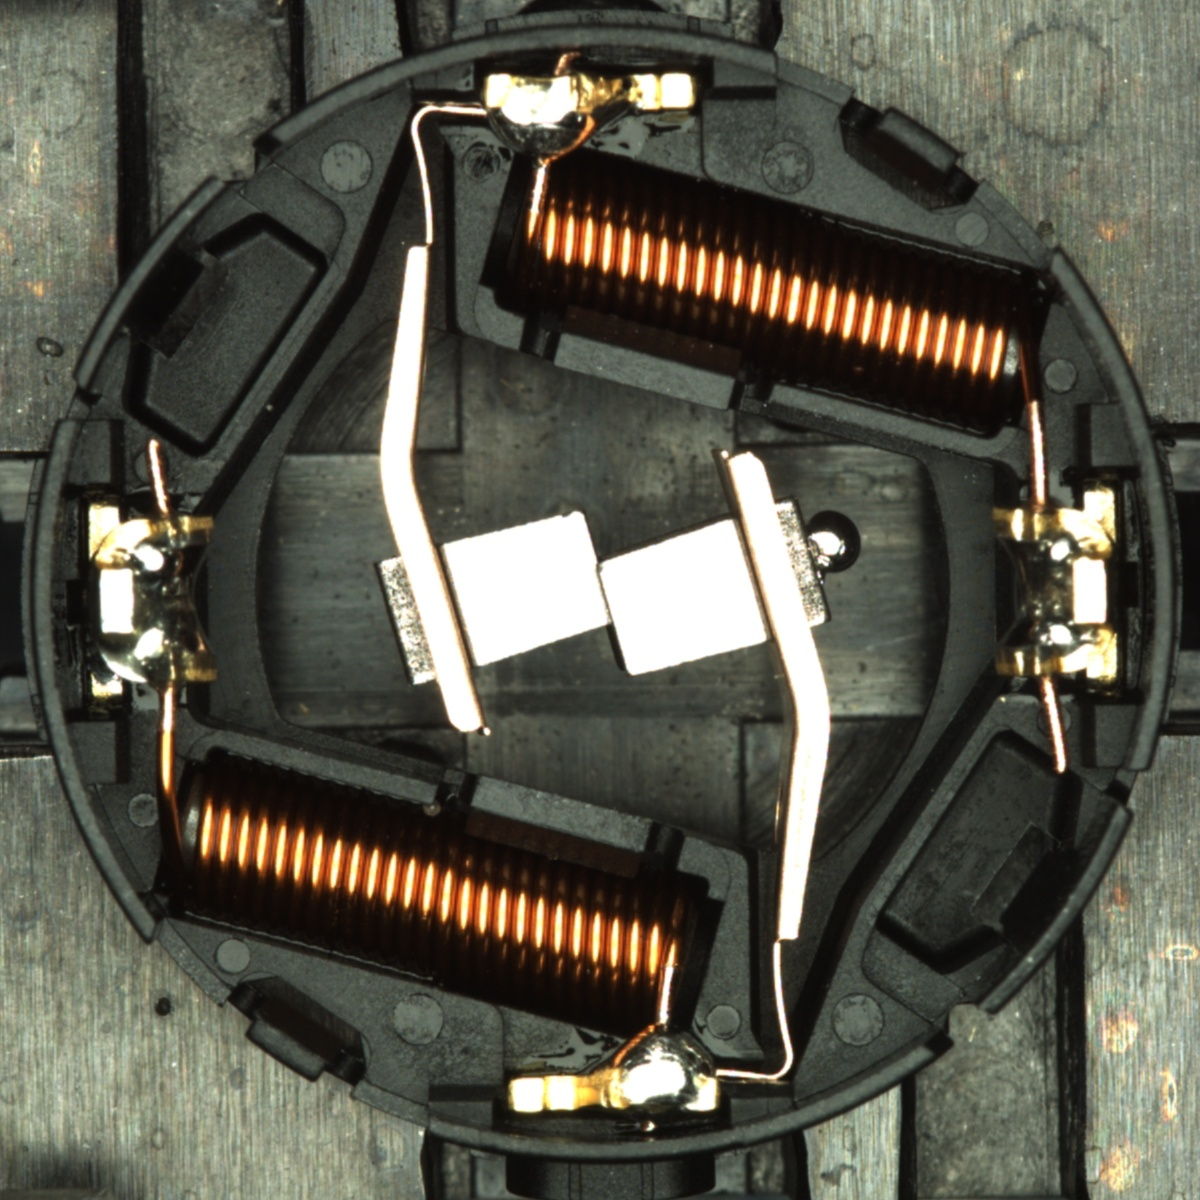1: (258, 55, 487, 279), (716, 953, 945, 1177)
2: (716, 55, 945, 279), (258, 953, 487, 1177)
3: (29, 279, 258, 503), (945, 729, 1175, 953)
4: (258, 279, 487, 503), (716, 729, 945, 953)
5: (487, 167, 716, 391), (487, 841, 716, 1065)
6: (716, 279, 945, 503), (258, 729, 487, 953)
7: (945, 279, 1175, 503), (29, 729, 258, 953)
chau_dien: (81, 498, 222, 701), (985, 489, 1124, 688)
hat_chi: (799, 511, 864, 580)
tay_choi: (481, 69, 701, 168), (508, 1020, 721, 1118)
thanh_de: (954, 787, 1141, 1031), (59, 165, 245, 404)
